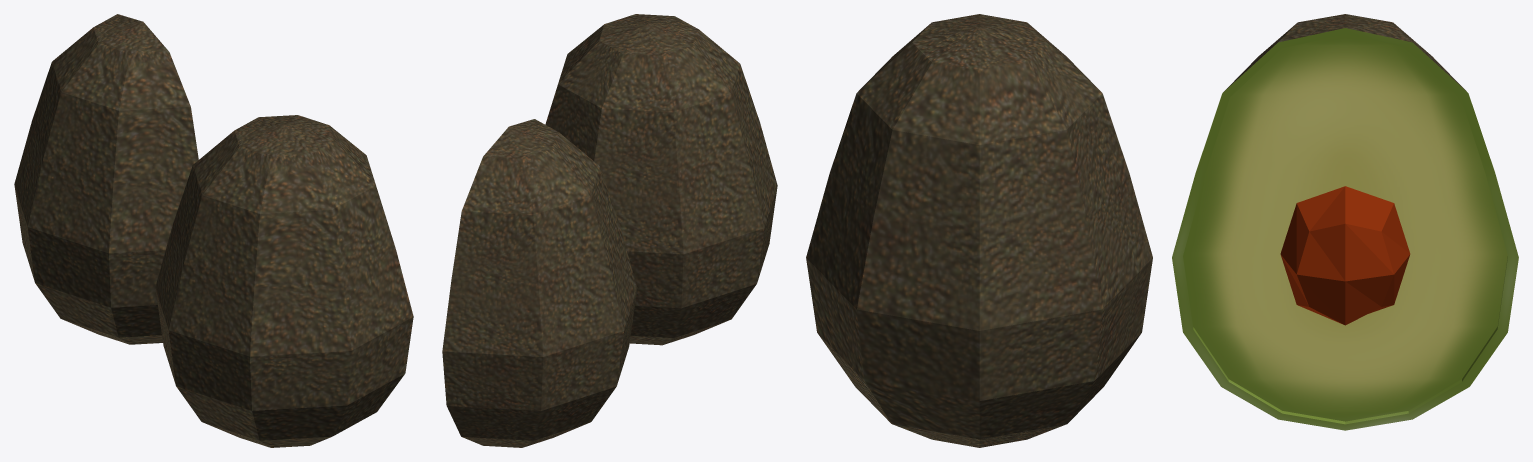
The model's file is avocado.gltf.
The picture shows the model from 3 angles, left to right: view 1: azimuth 30°, elevation 25°; view 2: azimuth 150°, elevation 25°; view 3: azimuth 270°, elevation 25°; orthographic projection. The views are drawn at different scales.
Parts seen in each view (by area): view 1: node-0; view 2: node-0; view 3: node-0.
Boxes of the visible parts, x1,y1,x2,y2 form: node-0: [14, 14, 413, 447]; node-0: [442, 14, 777, 447]; node-0: [806, 14, 1518, 447].
Bounding box in the file's own units: 1.97 × 2.53 × 4.05.
3 materials, 2 textured.
